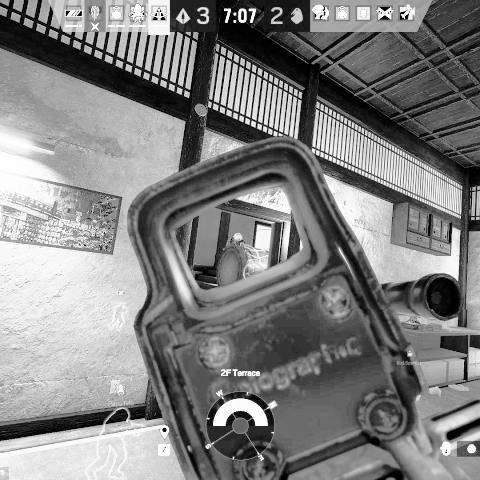Character: (225, 232, 248, 248)
Friend_label: (108, 383, 135, 409), (396, 349, 422, 366), (112, 289, 129, 306)
Head: (233, 232, 243, 243)
